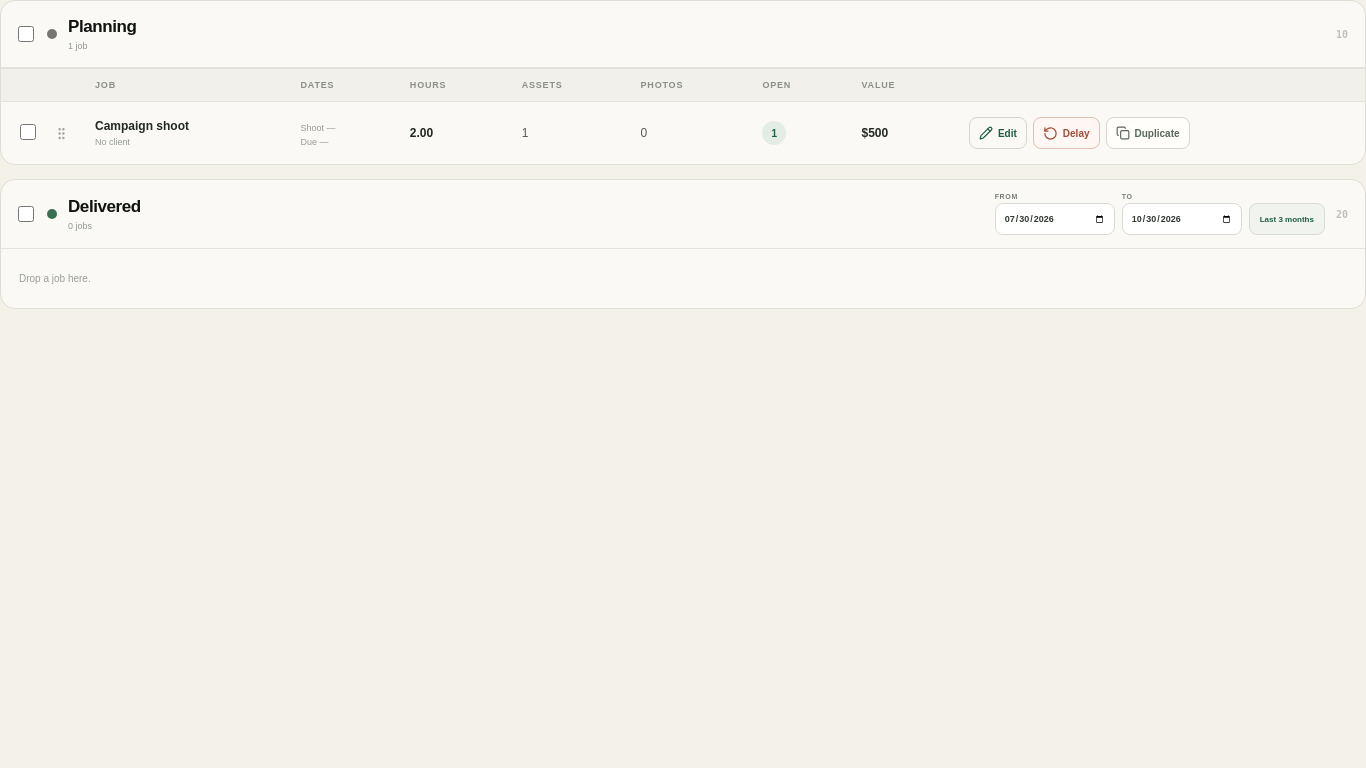
Test case: StatusGroupedTable › exports selected jobs as a downloadable PDF with optional pricing
The width and height of the screenshot is (1366, 768).
Click the checkbox named "Select Campaign shoot" at (28, 132), box [20,124,36,140]
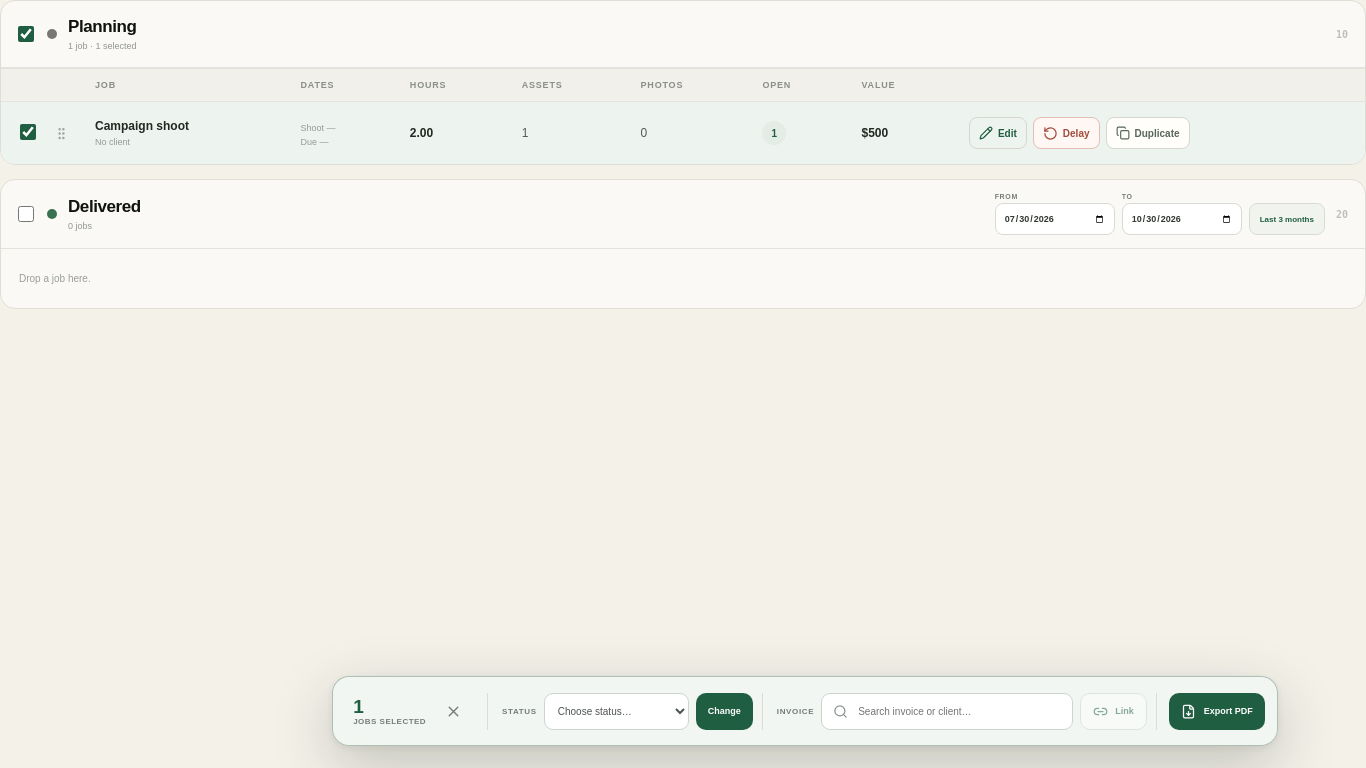
Expected: the button "Export PDF" is shown
Click the button "Export PDF" at (1217, 711), box [1169,692,1265,730]
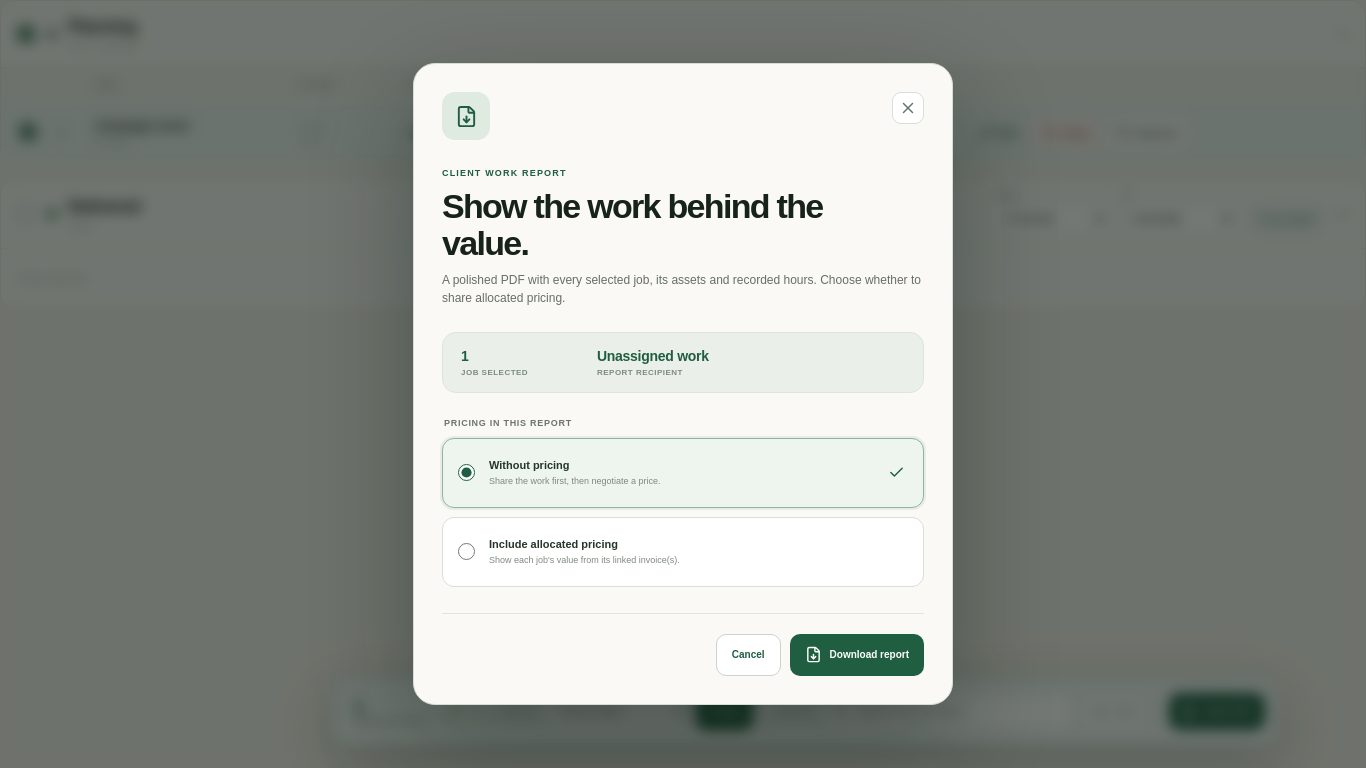
Expected: the dialog shows "Without pricing", [489,459,570,471]
Expected: the dialog shows "Include allocated pricing", [489,538,618,550]
Click the radio button named "job-export-pricing" at (466, 552), box [458,543,475,560]
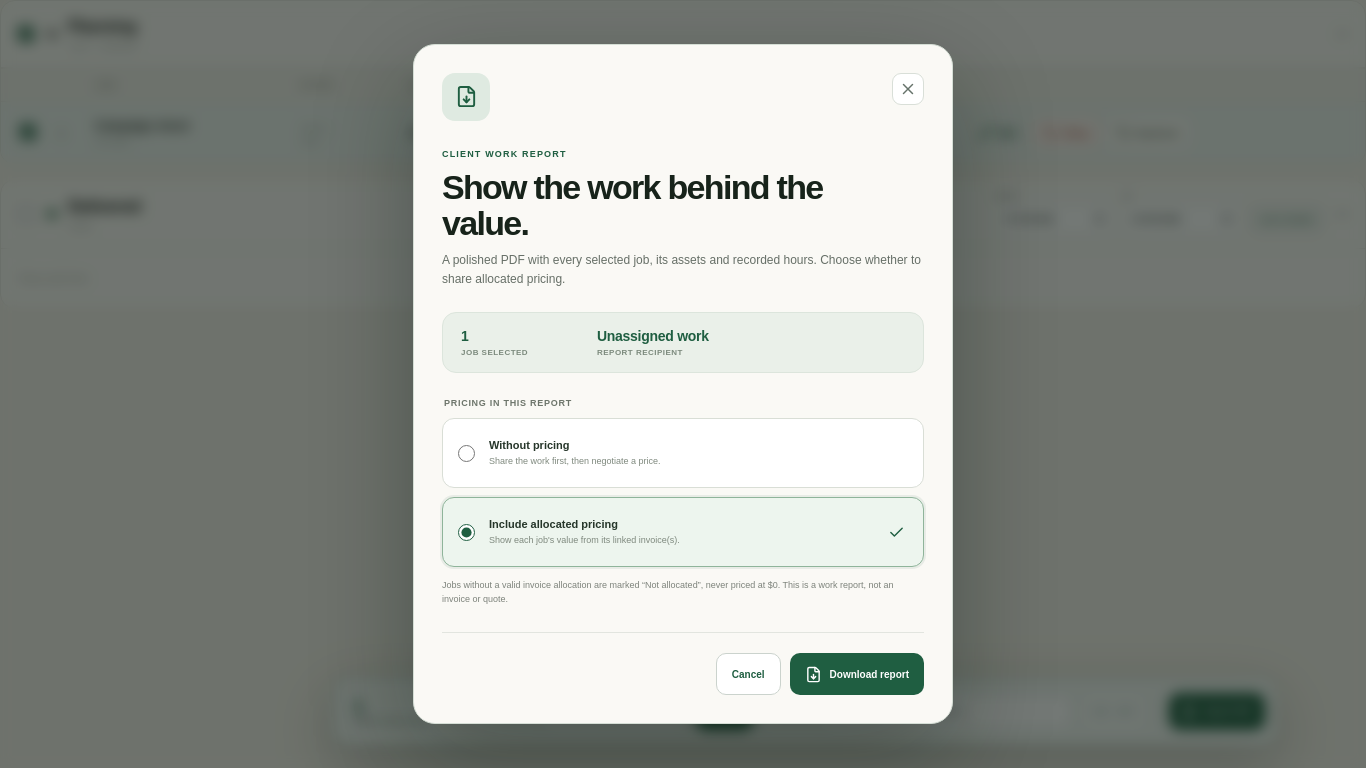
Click the button "Download report" at (857, 674), box [790,653,924,695]
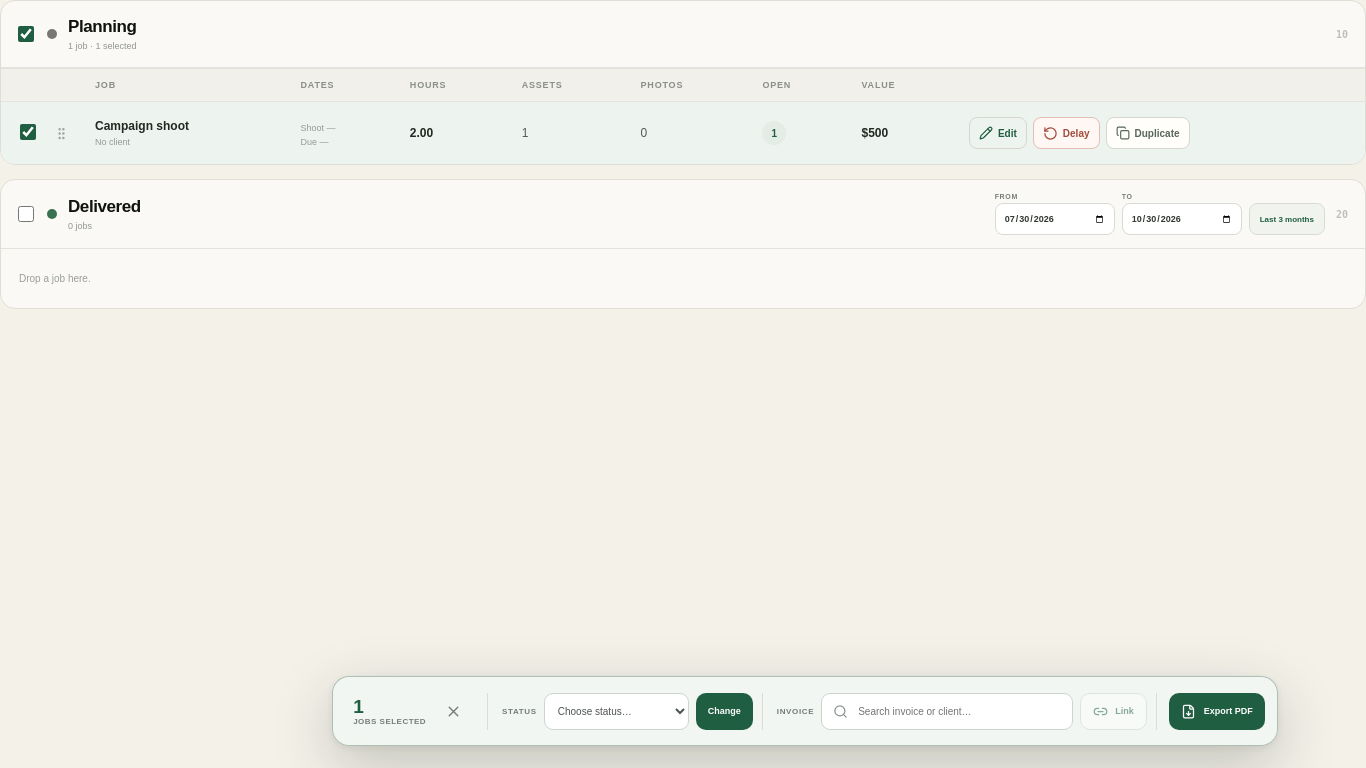
Expected: the heading "Show the work behind the value." is gone
